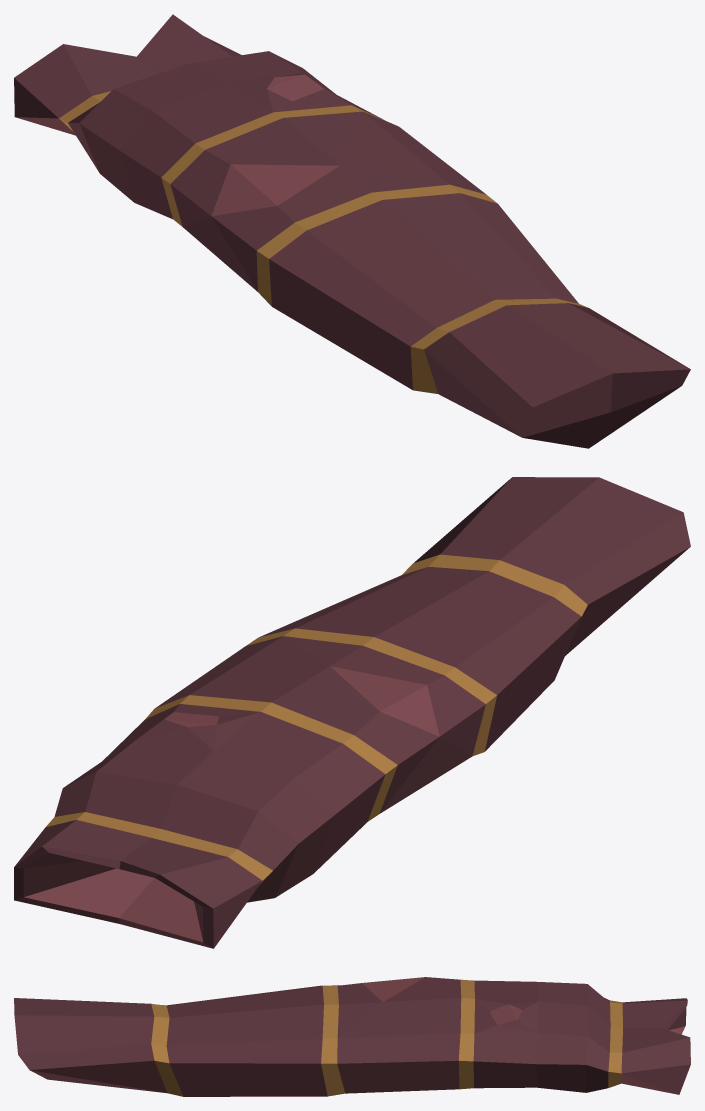
File: body-bag-empty-bloody-c.fbx
The picture shows the model from 3 angles, top to bottom: view 1: azimuth 30°, elevation 25°; view 2: azimuth 150°, elevation 25°; view 3: azimuth 270°, elevation 25°; orthographic projection. The views are drawn at different scales.
Visible parts, largest first — view 1: body-bag-empty-bloody-c; view 2: body-bag-empty-bloody-c; view 3: body-bag-empty-bloody-c.
Boxes of the visible parts, box(x1,y1,x2,y2) form: body-bag-empty-bloody-c: box(14, 14, 690, 448); body-bag-empty-bloody-c: box(14, 477, 690, 948); body-bag-empty-bloody-c: box(14, 977, 690, 1096).
Bounding box in the file's own units: 0.4602 × 0.2175 × 1.68.
